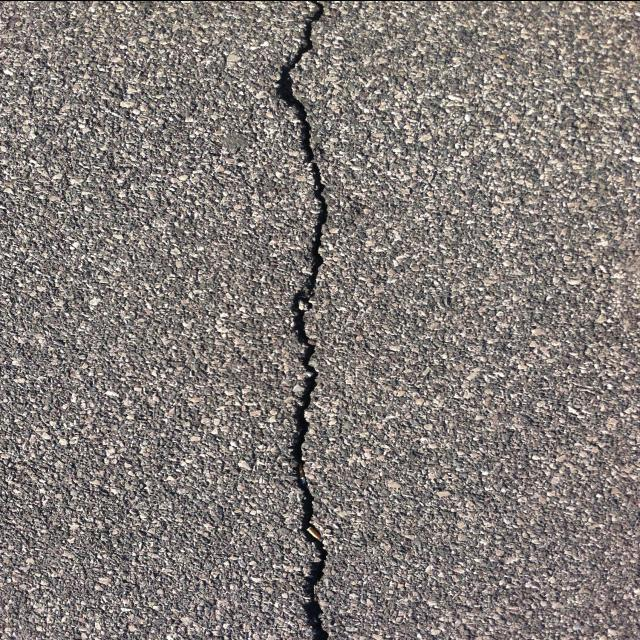Crack: (278, 0, 335, 640)
